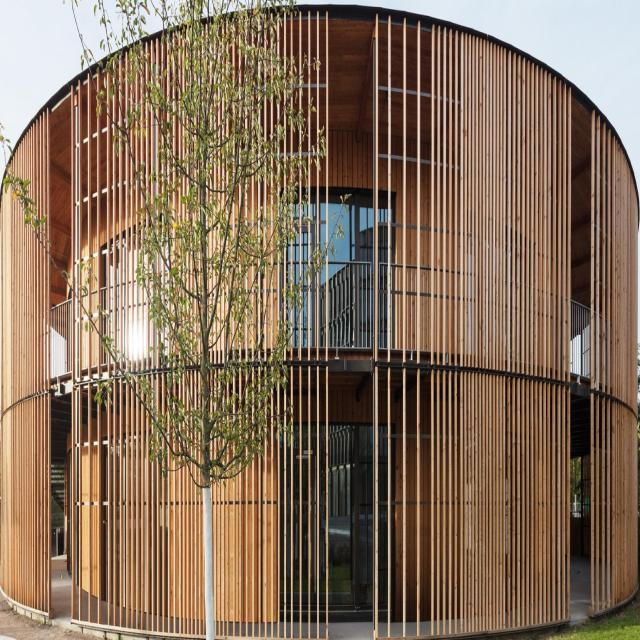Railing: (328, 262, 373, 350), (49, 298, 72, 379), (571, 297, 591, 378)
door: (318, 426, 356, 603)
plant: (3, 0, 350, 639)
wall: (0, 4, 640, 639)
windows: (358, 426, 394, 610)
